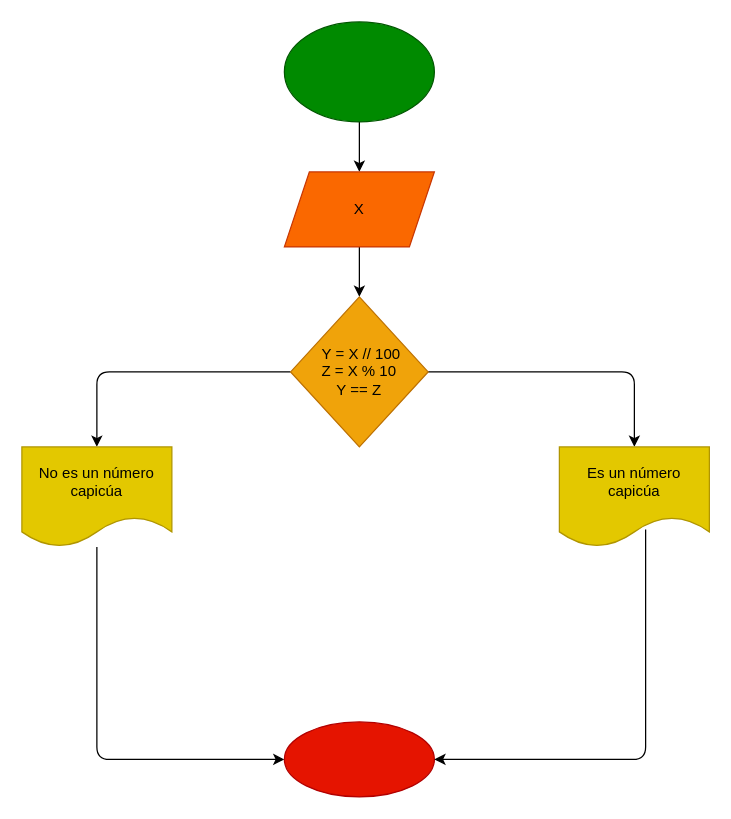
Image size: 731x819. Some labels were removed from this diagram. The shapes that lost their labels are listed below. From the top down, each one's centre as x and y in pixels, then its label:
At [358,71]: "INICIO".
At [358,759]: "FIN".
